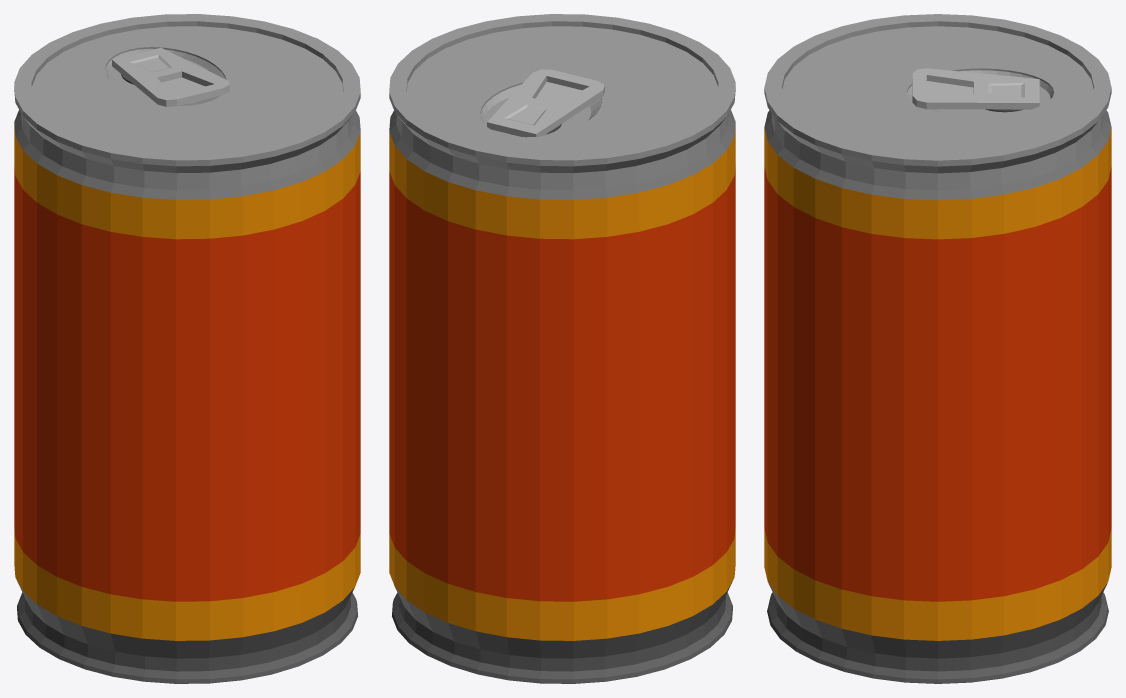
File: Can of Orange.fbx
3 renders of one model, left to right at view 1: azimuth 30°, elevation 25°; view 2: azimuth 150°, elevation 25°; view 3: azimuth 270°, elevation 25°, orthographic.
Visible parts, largest first — view 1: Can of Orange; view 2: Can of Orange; view 3: Can of Orange.
Part boxes in pixels (<box>): Can of Orange: <box>14,14,360,683</box>; Can of Orange: <box>389,14,735,683</box>; Can of Orange: <box>764,14,1111,683</box>.
Bounding box in the file's own units: 15.54 × 26.08 × 15.54.
1 material, 1 textured.
